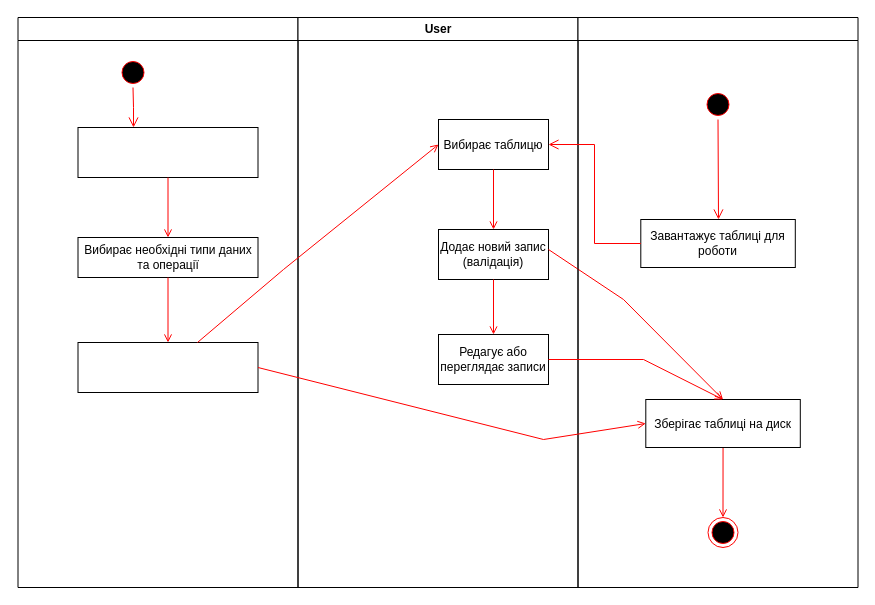
Some shapes in this 875 by 605 pixel diagram are drawn without their labels. Each missing label, with the box of its shape:
Admin: (17, 16, 298, 588)
User/Admin: (577, 16, 858, 588)
Створює базу даних: (77, 126, 258, 178)
Створює таблиці: (77, 342, 258, 392)
